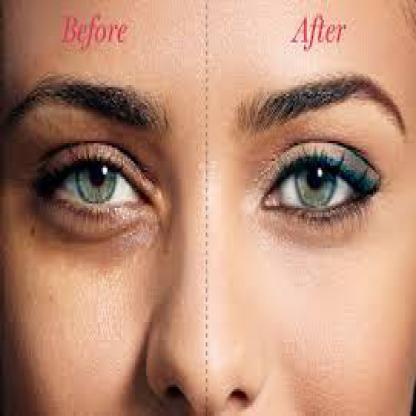darkspot: (23, 217, 35, 237), (46, 286, 55, 304), (23, 286, 31, 300)
puffyeye: (40, 199, 146, 233)
